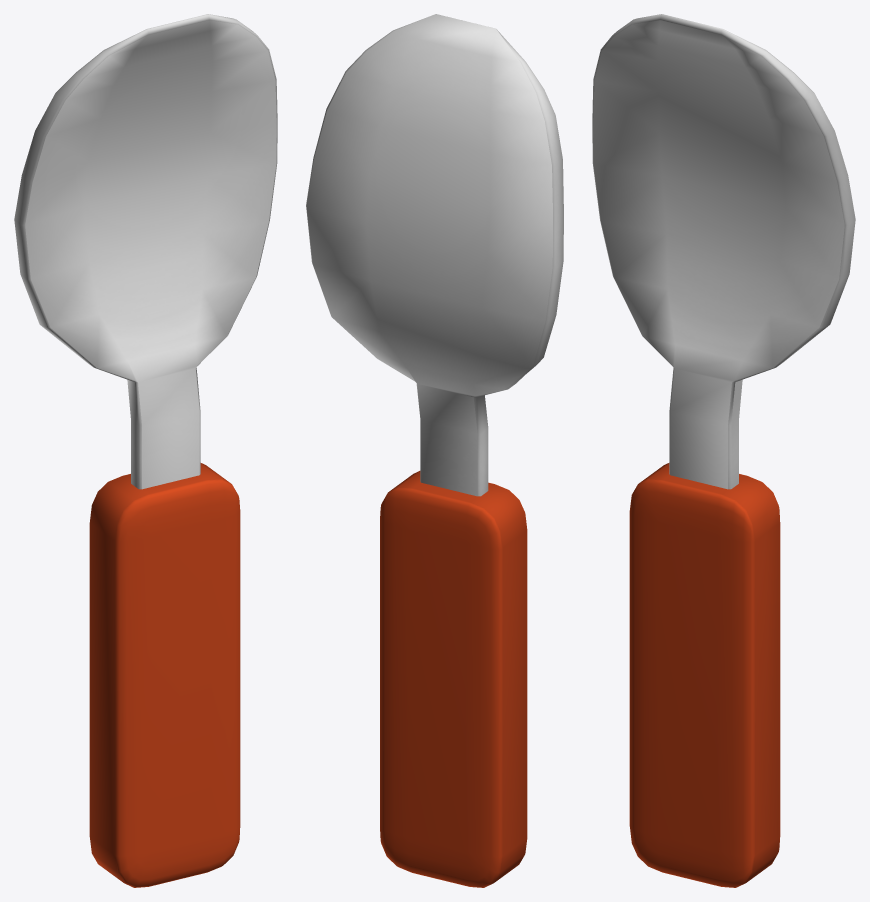
Rendered from ENV2010097.fbx.
3 views of the same model, side by side, from view 1: azimuth 30°, elevation 25°; view 2: azimuth 150°, elevation 25°; view 3: azimuth 330°, elevation 25° (orthographic). The views are drawn at different scales.
Parts seen in each view (by area): view 1: smENV2010097; view 2: smENV2010097; view 3: smENV2010097.
Part boxes in pixels (<box>): smENV2010097: <box>14,14,277,887</box>; smENV2010097: <box>306,14,563,887</box>; smENV2010097: <box>592,14,855,887</box>.
Size of the model in its own units: 3.38 by 10.84 by 1.02.
Materials: 1 (1 with a texture image).
